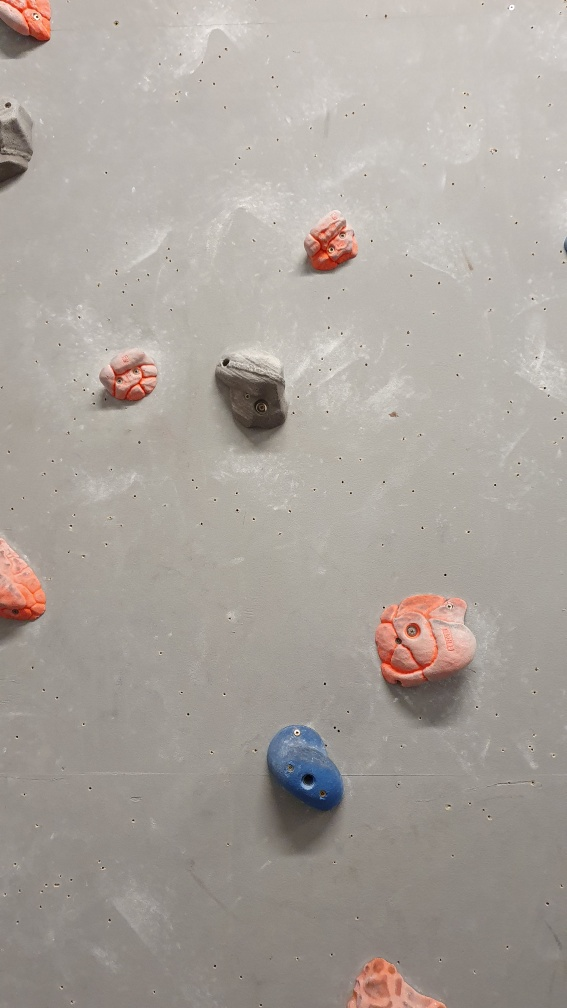Jug: (373, 589, 483, 699), (96, 344, 164, 403), (301, 209, 359, 273)
Pinch: (1, 536, 53, 625)
Sloper: (260, 717, 347, 819)
